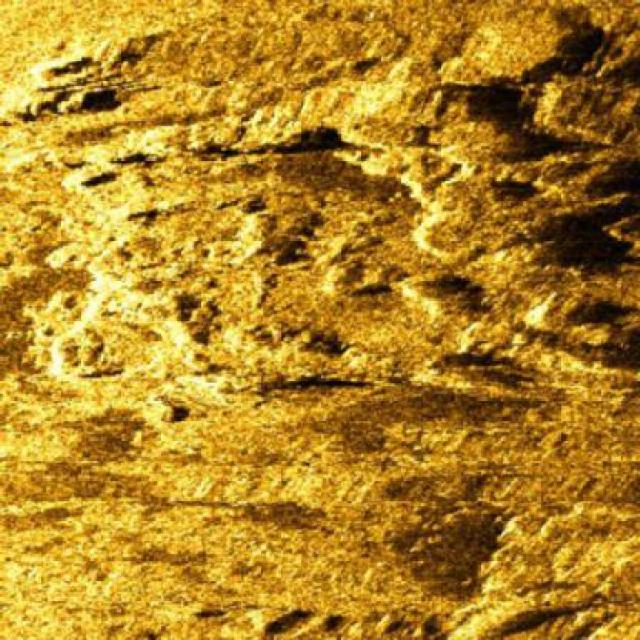bedrock group: (0, 0, 638, 394), (232, 488, 639, 638)
